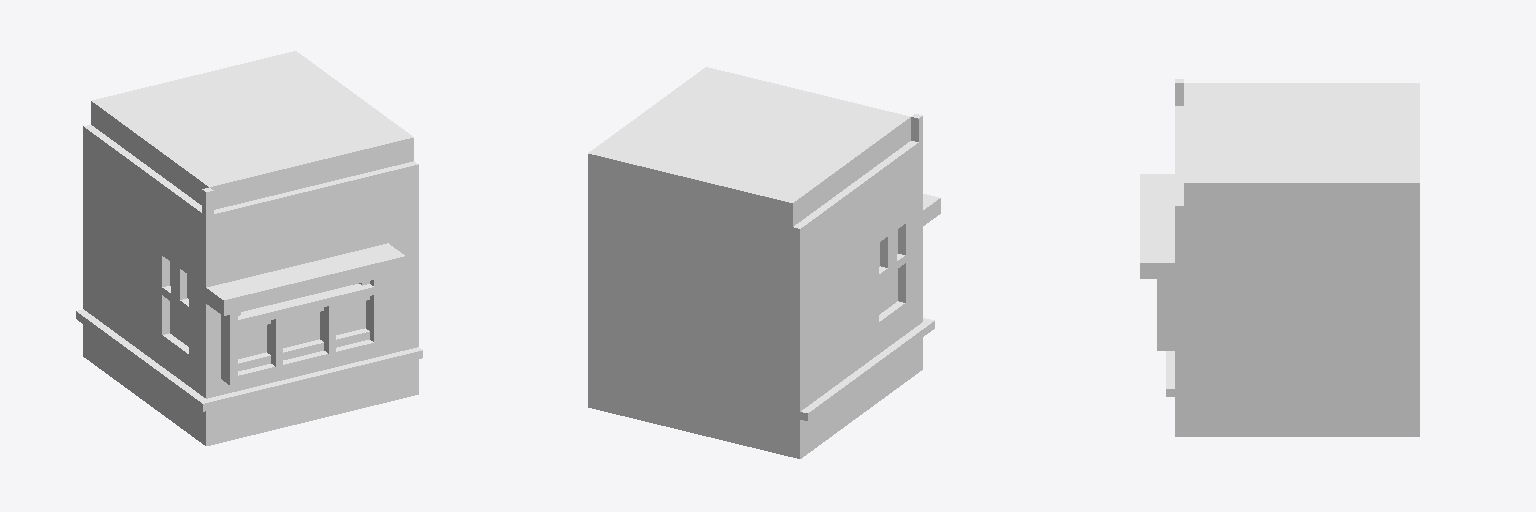
The model's file is tile_2_left_nr_corner_90.obj.
The picture shows the model from 3 angles: view 1: azimuth 30°, elevation 25°; view 2: azimuth 150°, elevation 25°; view 3: azimuth 270°, elevation 25°; orthographic projection.
Parts seen in each view (by area): view 1: object 1; view 2: object 1; view 3: object 1.
Boxes of the visible parts, x1=… form: object 1: x1=76, y1=51, x2=422, y2=445; object 1: x1=588, y1=67, x2=940, y2=458; object 1: x1=1140, y1=79, x2=1419, y2=436.
Bounding box in the file's own units: 2.9 × 3.2 × 3.2.